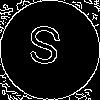S: (25, 25, 63, 74)
